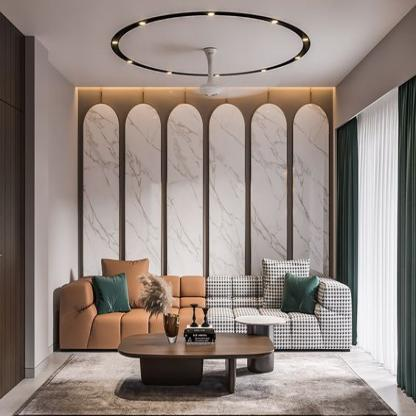Wall Panel: (70, 86, 338, 359)
